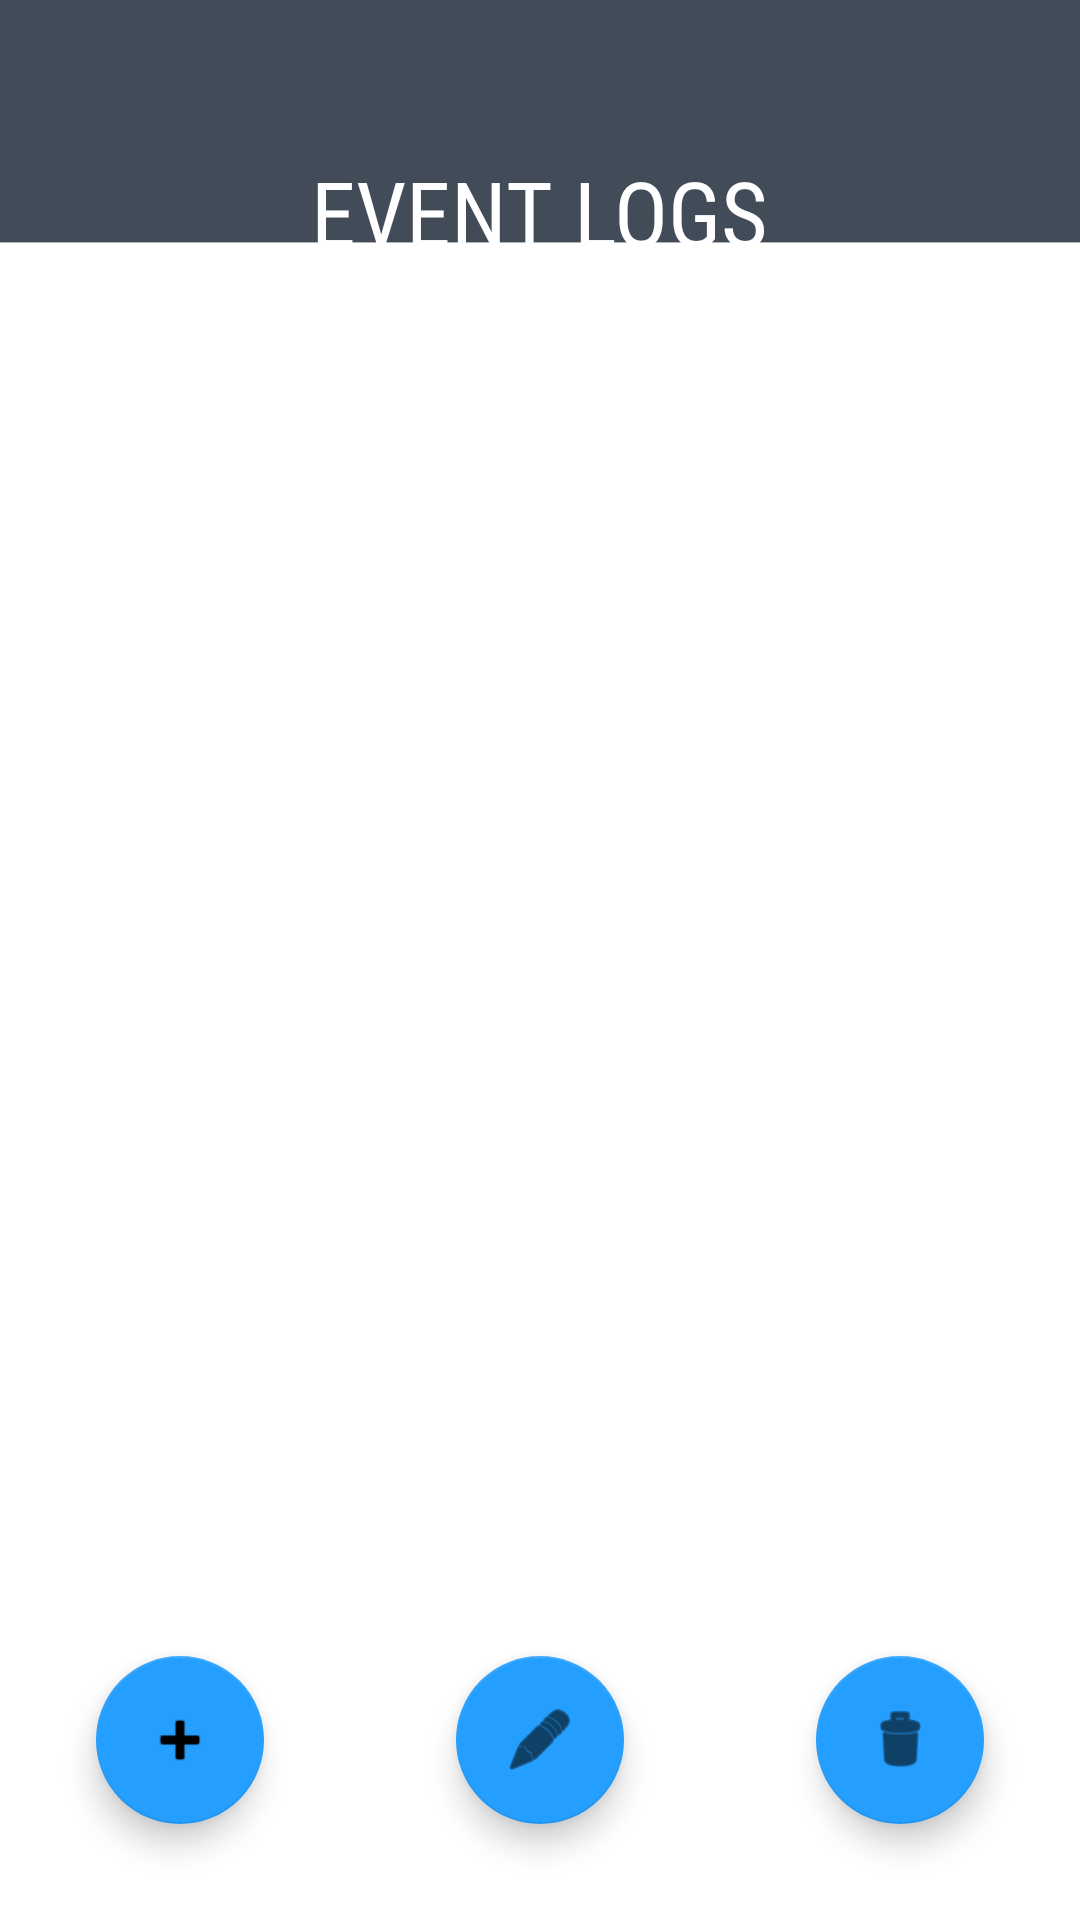

Where to tap for icons on this 1080×1920 app screen, as (x,y):
add: (180,1740)
delete: (900,1740)
edit: (540,1740)
